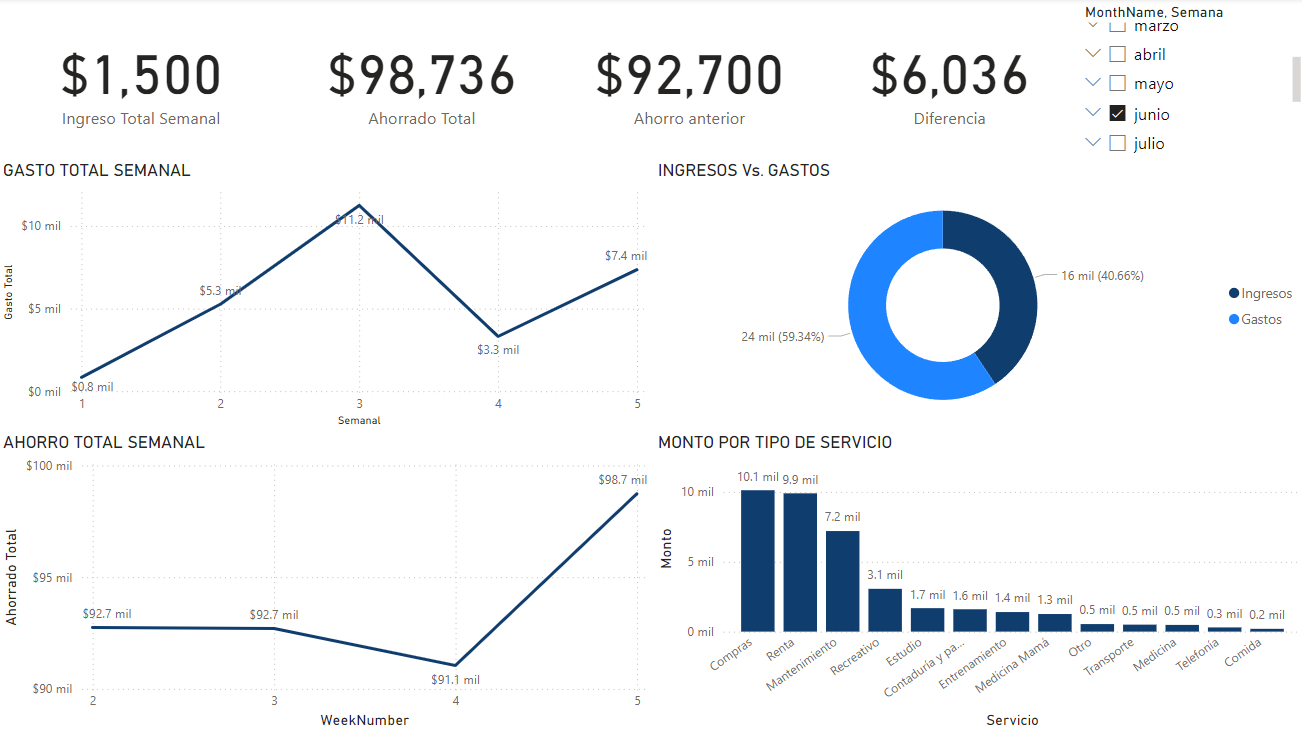

What the dashboard file says about the page in this screenshot:
{"tool":"powerbi","page":{"name":"Página 1","canvas":[1280,720],"ordinal":0},"visuals":[{"type":"slicer","fields":{"Values":["TablaFechas.MonthName","TablaFechas.WeekNumber"]},"box":[1050.4,0,229.3,157.6],"z":0},{"type":"card","fields":{"Values":["Ingresos.Ingreso Total Semanal"]},"box":[0,0,280.3,157.6],"z":1},{"type":"card","fields":{"Values":["Banco.Ahorrado Total"]},"box":[280.3,0,269.6,157.6],"z":2},{"type":"card","fields":{"Values":["Banco.PenúltimoValorCuenta"]},"box":[549.9,0,252.5,157.6],"z":3},{"type":"card","fields":{"Values":["Banco.Diferencia"]},"box":[802.4,0,257.9,157.6],"z":4},{"type":"lineChart","title":"AHORRO TOTAL SEMANAL","fields":{"Y":["Banco.Ahorrado Total"],"Category":["TablaFechas.WeekNumber"]},"box":[0,424.5,640.3,295.5],"z":6},{"type":"lineChart","title":"GASTO TOTAL SEMANAL","fields":{"Y":["Gastos.Gasto Total"],"Category":["TablaFechas.WeekNumber"]},"box":[0,157.6,640.3,266.9],"z":7},{"type":"pieChart","fields":{"Y":["Sum(Ingresos.Monto)","Sum(Gastos.Monto)"]},"box":[640.3,157.6,639.4,266.9],"z":8},{"type":"clusteredColumnChart","fields":{"Y":["Sum(GastosUnificados.Monto)"],"Category":["GastosUnificados.Servicio"]},"box":[640.3,424.5,639.4,295.5],"z":9}]}

Visuals, with their boxes in screenshot pixels (x1, y1, x2, y2), scaled from the page's 1280x720 canvas onto the 1302x730 screenshot:
slicer - TablaFechas.MonthName x TablaFechas.WeekNumber: Rect(1068, 0, 1301, 160)
card - Ingresos.Ingreso Total Semanal: Rect(0, 0, 285, 160)
card - Banco.Ahorrado Total: Rect(285, 0, 559, 160)
card - Banco.PenúltimoValorCuenta: Rect(559, 0, 816, 160)
card - Banco.Diferencia: Rect(816, 0, 1079, 160)
"AHORRO TOTAL SEMANAL" lineChart: Rect(0, 430, 651, 729)
"GASTO TOTAL SEMANAL" lineChart: Rect(0, 160, 651, 430)
pieChart - Sum(Ingresos.Monto) x Sum(Gastos.Monto): Rect(651, 160, 1301, 430)
clusteredColumnChart - Sum(GastosUnificados.Monto) x GastosUnificados.Servicio: Rect(651, 430, 1301, 729)
